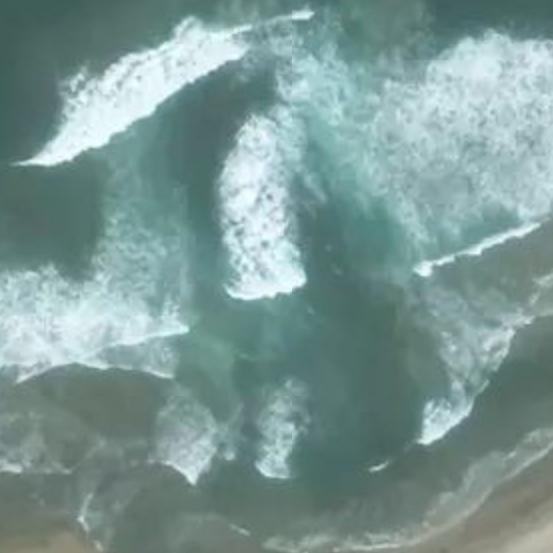rip_current: (226, 31, 464, 443)
